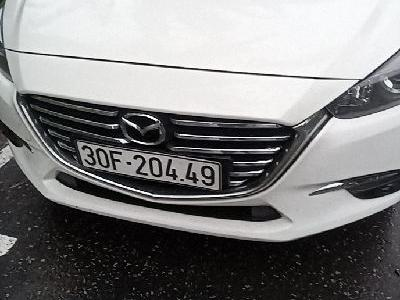lisence: (72, 135, 223, 195)
